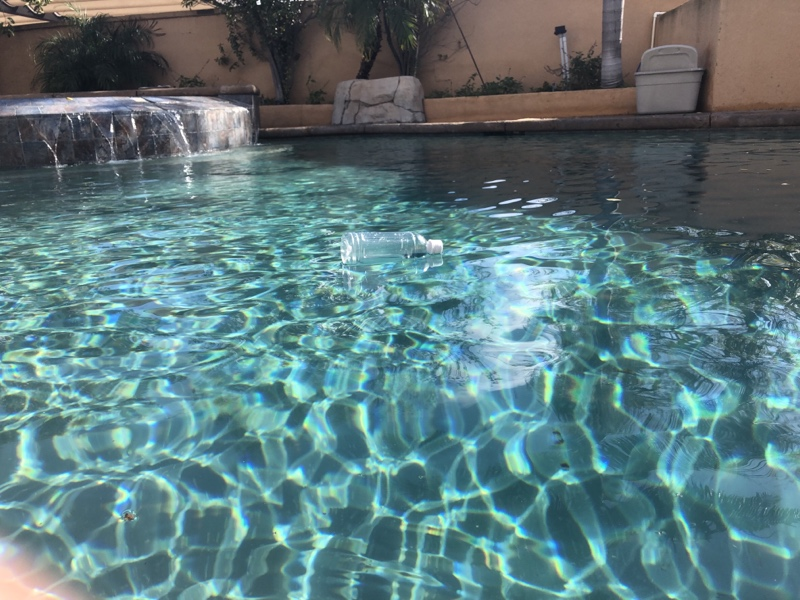Plastic Bottle: (335, 227, 447, 271)
